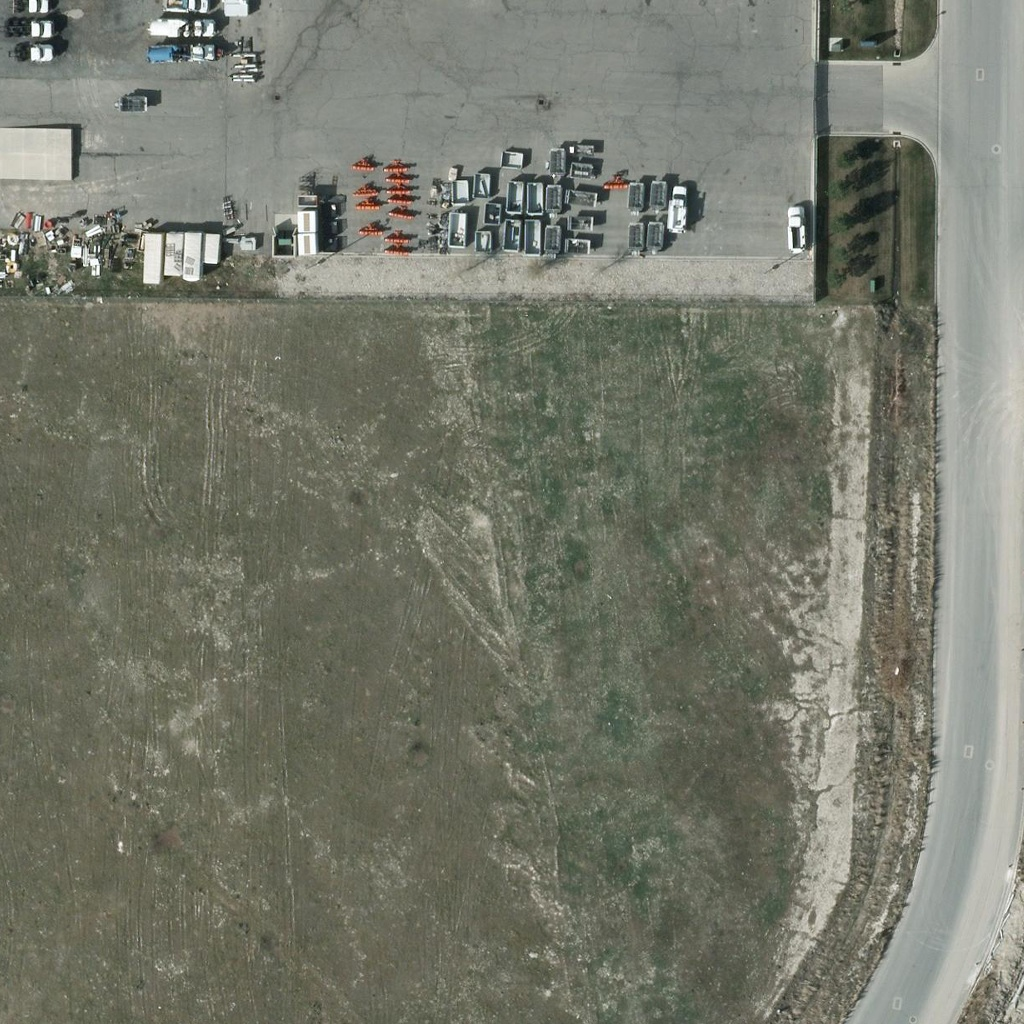truck: (146, 41, 220, 63), (143, 18, 217, 40), (9, 41, 54, 64), (5, 19, 50, 42), (7, 1, 50, 16)
